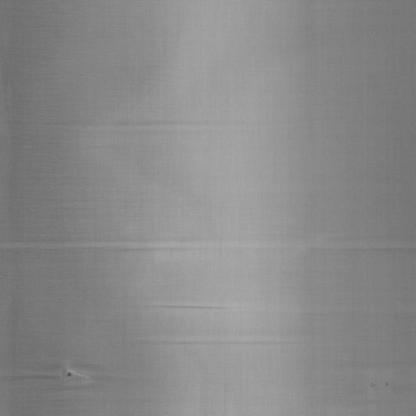rolled_pit: (55, 355, 93, 392)
